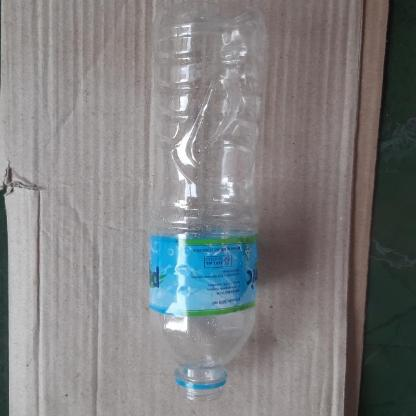Plastic Bottle: (138, 4, 268, 410)
